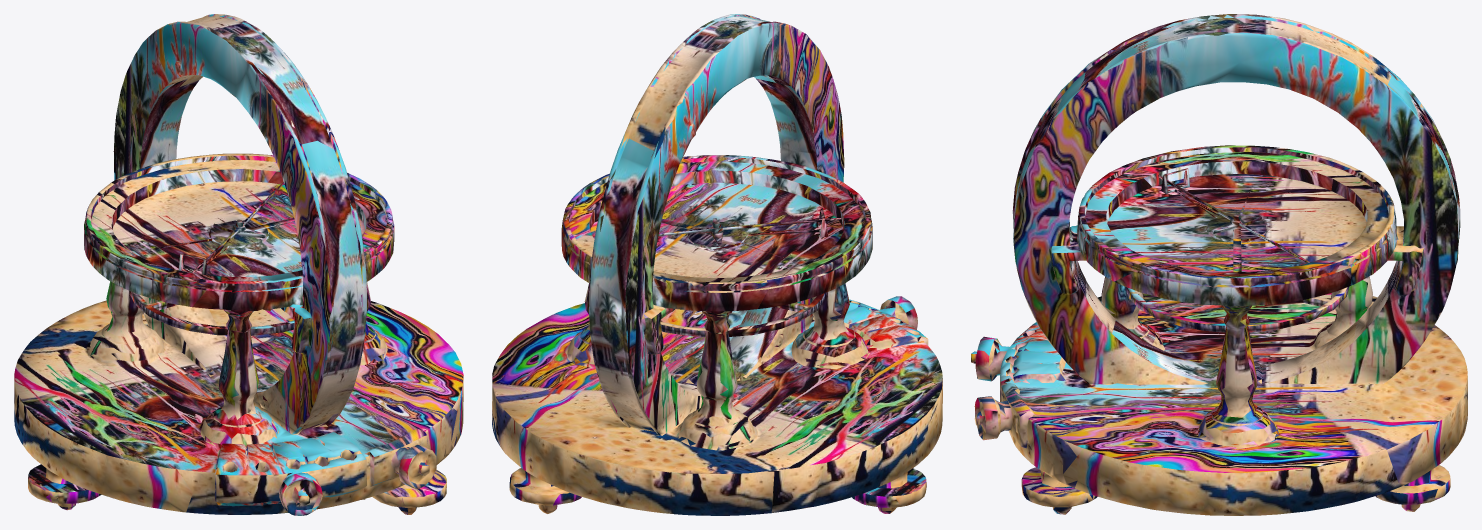
Rendered from si_nmah_western-electric-tangent-galvanometer.glb.
The picture shows the model from 3 angles, left to right: view 1: azimuth 30°, elevation 25°; view 2: azimuth 150°, elevation 25°; view 3: azimuth 270°, elevation 25°; orthographic projection. The views are drawn at different scales.
Visible parts, largest first — view 1: A; view 2: A; view 3: A.
Boxes of the visible parts, x1,y1,x2,y2 form: A: (14,14,463,515); A: (492,14,942,515); A: (971,14,1467,515).
Bounding box in the file's own units: 1.9 × 1.99 × 2.
Materials: 1 (1 with a texture image).
